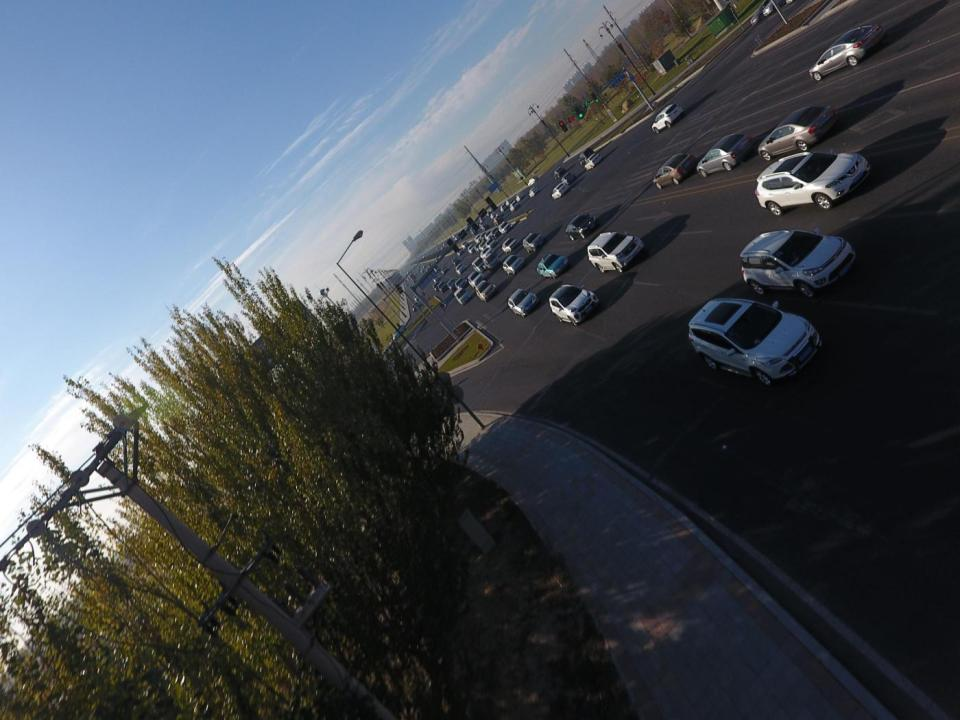car: (687, 298, 821, 383), (740, 230, 858, 298), (756, 151, 868, 214), (754, 105, 838, 160), (809, 24, 885, 82), (699, 132, 754, 178), (589, 230, 643, 272), (549, 284, 598, 328), (653, 154, 699, 186), (506, 288, 540, 317), (652, 103, 682, 132), (749, 0, 781, 25), (567, 214, 597, 240), (538, 255, 569, 279), (475, 280, 497, 304), (523, 232, 545, 252), (503, 255, 526, 274), (552, 183, 571, 199), (578, 148, 595, 165), (584, 154, 602, 170), (502, 237, 520, 253), (467, 273, 486, 287), (393, 324, 407, 340), (560, 172, 576, 185), (553, 166, 566, 180), (499, 221, 513, 234), (480, 248, 496, 259), (446, 278, 458, 292), (490, 227, 502, 239), (438, 281, 449, 294), (455, 278, 469, 288), (527, 175, 539, 186), (528, 187, 540, 198), (455, 264, 467, 274), (510, 200, 520, 212), (484, 230, 495, 240), (474, 242, 485, 252), (480, 231, 490, 242), (493, 215, 503, 226), (485, 240, 498, 248), (452, 256, 461, 266), (474, 234, 484, 243), (516, 191, 524, 202), (412, 301, 420, 311), (480, 241, 488, 251), (468, 244, 476, 254), (434, 283, 442, 291), (433, 274, 441, 282), (482, 224, 490, 232), (441, 266, 448, 274), (462, 241, 469, 249), (500, 204, 508, 211), (471, 229, 478, 237), (456, 249, 465, 255), (506, 198, 512, 206), (470, 224, 476, 232), (414, 294, 420, 301), (490, 212, 496, 219), (479, 222, 486, 228), (486, 210, 492, 217), (478, 218, 486, 222), (496, 212, 502, 217), (435, 256, 440, 262), (412, 279, 417, 284), (455, 236, 460, 241), (426, 266, 430, 272), (465, 227, 469, 232), (428, 262, 432, 267), (405, 284, 409, 287), (436, 247, 440, 250), (443, 242, 446, 246), (441, 246, 444, 250)
truck: (483, 253, 501, 273), (408, 273, 416, 279)
van: (454, 288, 472, 305), (472, 257, 487, 272)
